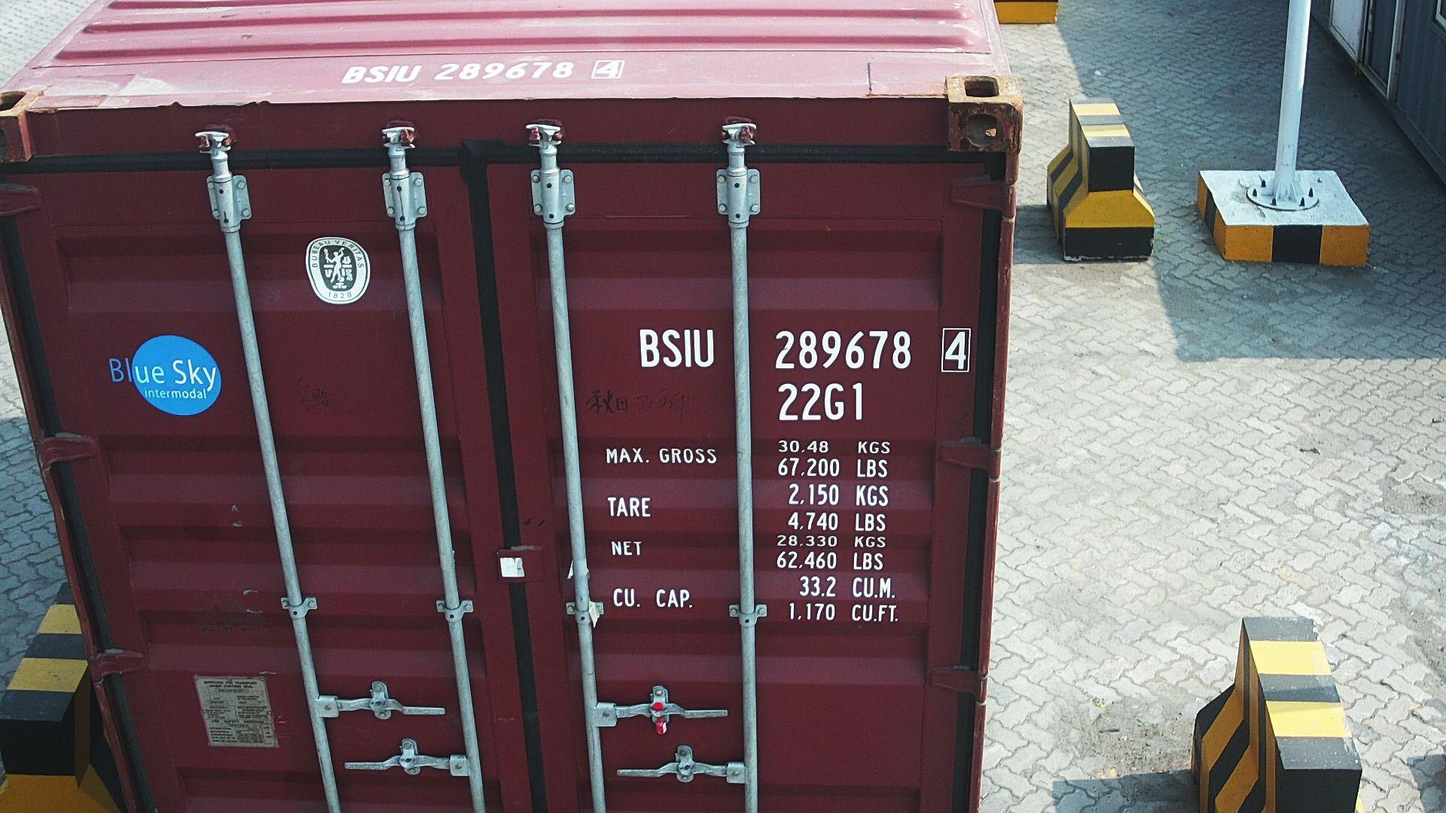container-numbers: (632, 324, 978, 376), (334, 57, 631, 84), (776, 380, 868, 425)
